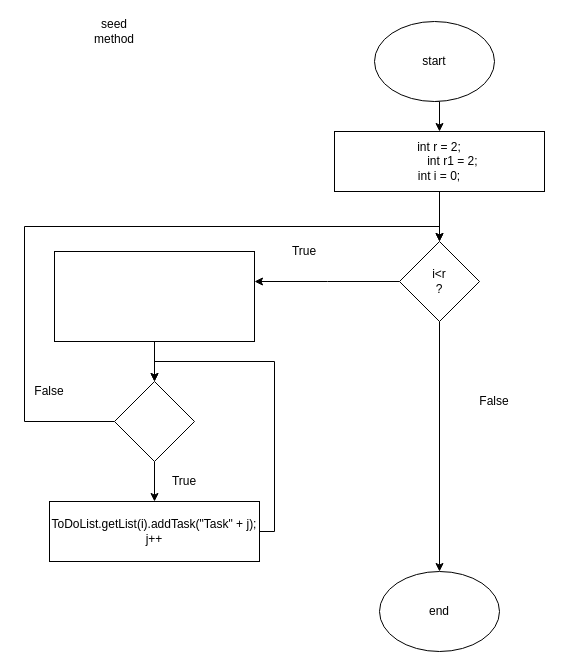
The diagram is 562 pixels wide and 669 high, and some of its shapes have lost their labels. The box of each missing label's shape, as (x1, y1, x2, y2) in pixels:
j<r1 ?: (114, 380, 194, 462)
ToDoList.addList("To do list " + i); i++; int j =0;: (54, 250, 254, 342)
